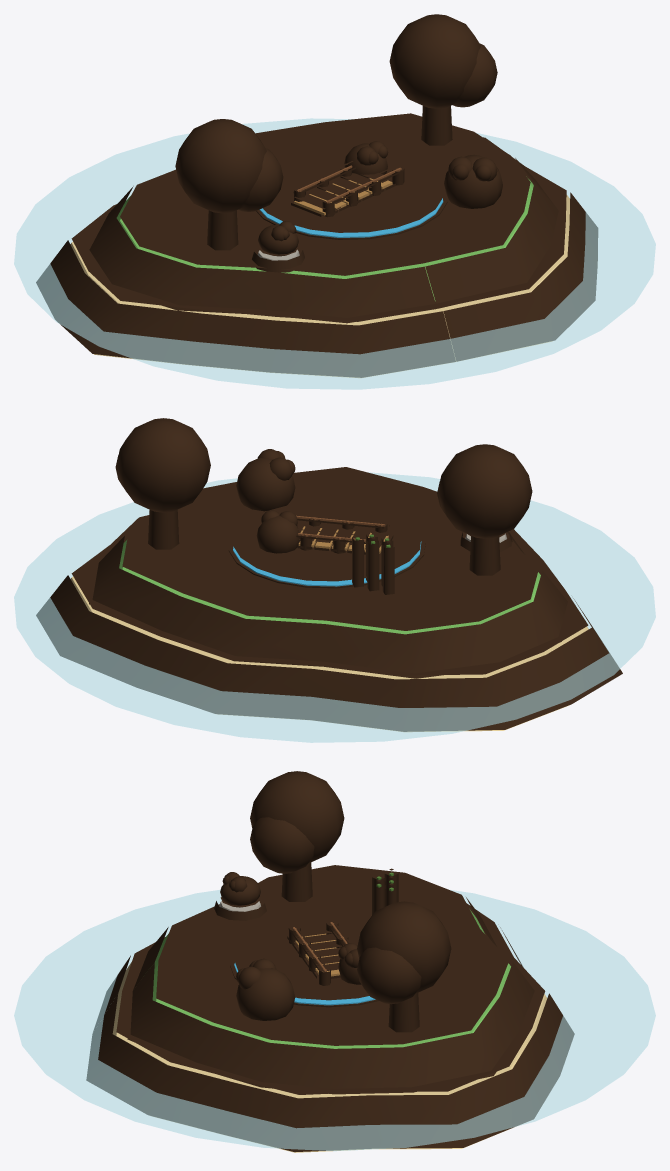
The model's file is island-pond.glb.
3 renders of one model, top to bottom at view 1: azimuth 30°, elevation 25°; view 2: azimuth 150°, elevation 25°; view 3: azimuth 270°, elevation 25°, orthographic.
Visible parts, largest first — view 1: outline (×13), Group (×2); view 2: outline (×12), Group (×2); view 3: outline (×12), Group.
Boxes of the visible parts, bbox=[...] form: outline (×13): bbox=[36, 14, 598, 377]; Group (×2): bbox=[14, 118, 655, 389]; outline (×12): bbox=[36, 418, 622, 731]; Group (×2): bbox=[14, 472, 655, 742]; outline (×12): bbox=[86, 771, 574, 1152]; Group: bbox=[14, 872, 655, 1152].
Size of the model in its own units: 5.1 by 1.76 by 5.1.
